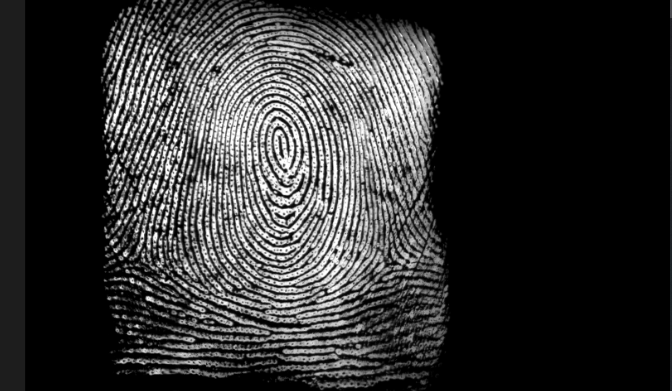deltas: (115, 225, 166, 287), (366, 234, 416, 283)
nucleo: (257, 121, 303, 177)
